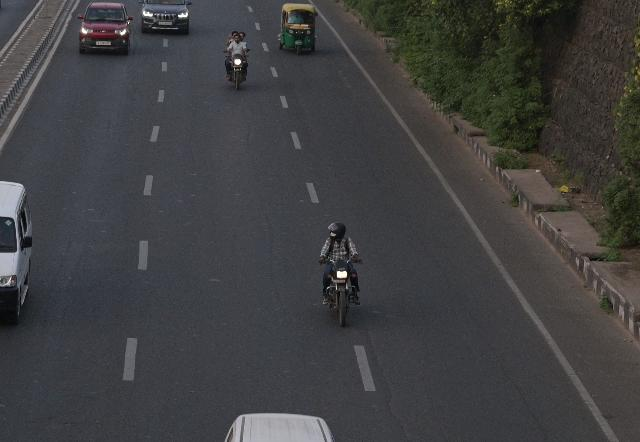With Helmet: (324, 219, 350, 241)
Without Helmet: (234, 34, 240, 44), (240, 32, 246, 40)
